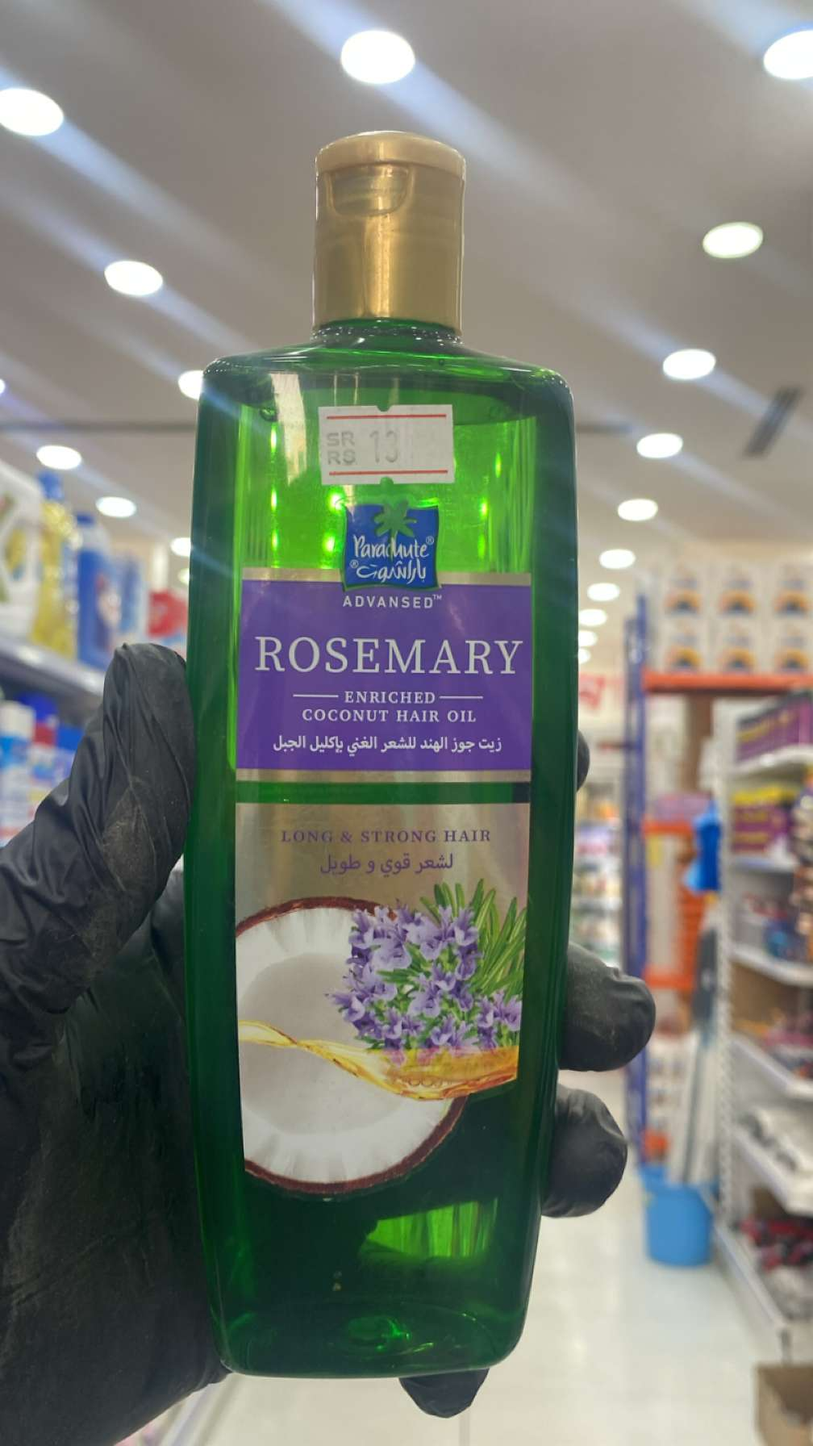parachute: (183, 132, 579, 1377)
